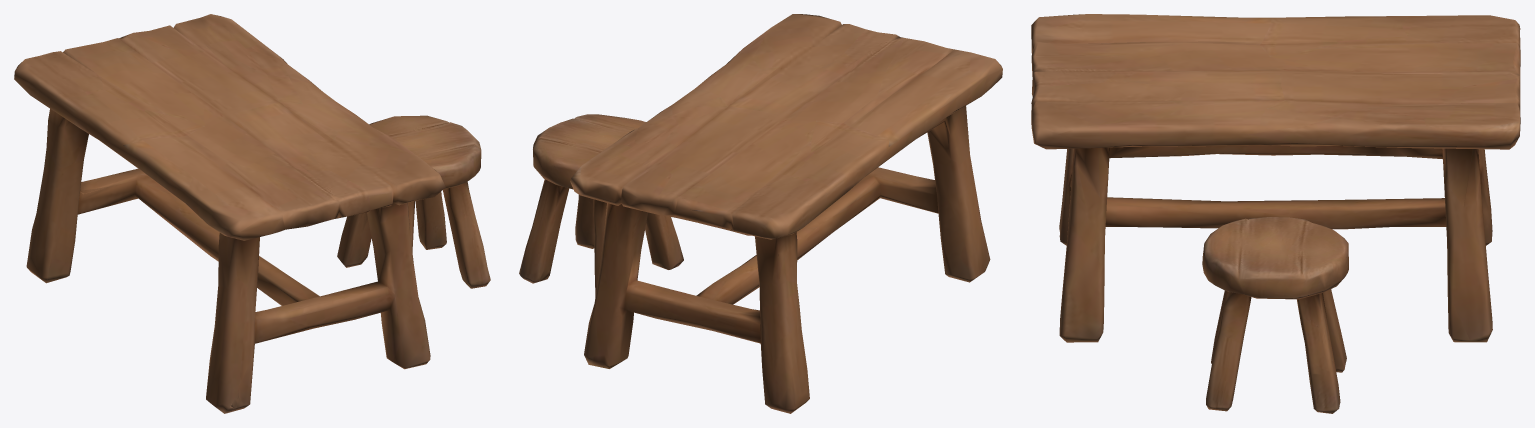
The model's file is table_stool.glb.
3 views of the same model, side by side, from view 1: azimuth 30°, elevation 25°; view 2: azimuth 150°, elevation 25°; view 3: azimuth 270°, elevation 25° (orthographic). The views are drawn at different scales.
Visible parts, largest first — view 1: tripo_node_d09bc670-98d4-4f23-a016-9d9dcdbab4f2; view 2: tripo_node_d09bc670-98d4-4f23-a016-9d9dcdbab4f2; view 3: tripo_node_d09bc670-98d4-4f23-a016-9d9dcdbab4f2.
Part boxes in pixels (x1=…): tripo_node_d09bc670-98d4-4f23-a016-9d9dcdbab4f2: x1=14, y1=14, x2=490, y2=413; tripo_node_d09bc670-98d4-4f23-a016-9d9dcdbab4f2: x1=519, y1=14, x2=1002, y2=413; tripo_node_d09bc670-98d4-4f23-a016-9d9dcdbab4f2: x1=1031, y1=14, x2=1520, y2=413.
Size of the model in its own units: 0.8802 by 0.4888 by 0.9818.
Materials: 1 (1 with a texture image).
